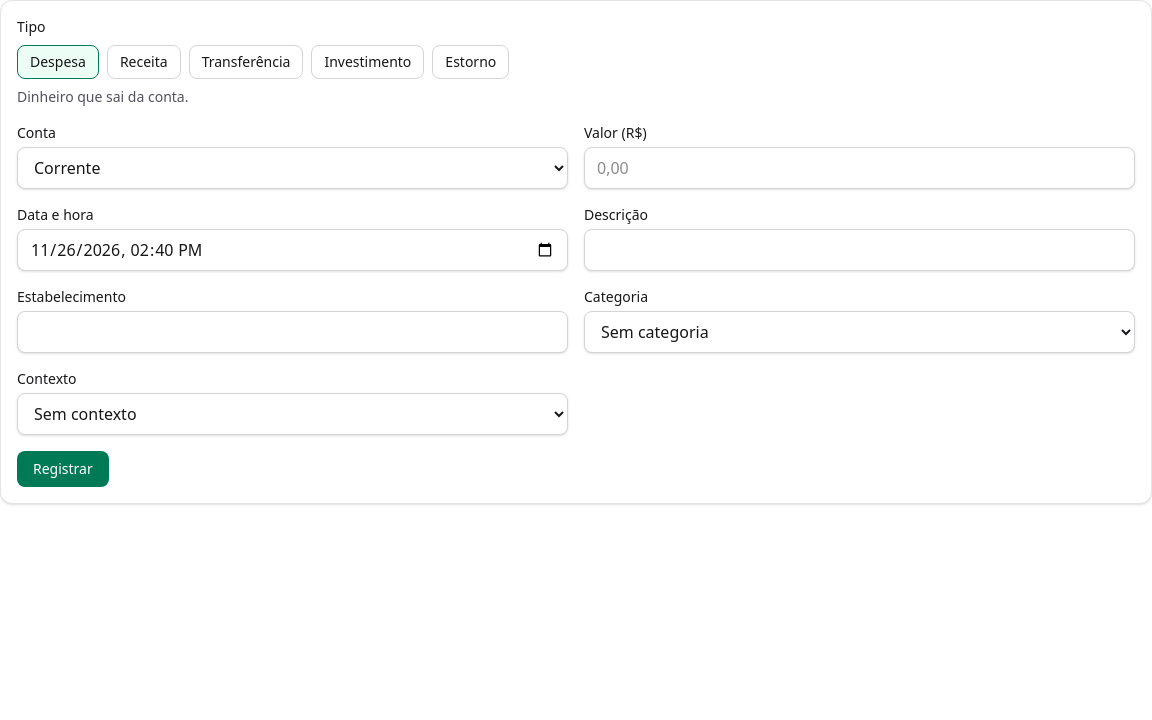
Test: TransactionForm › valor zero e negativo são recusados
Type "0" into the field labelled "Valor (R$)" at (860, 168), box [584,147,1135,189]
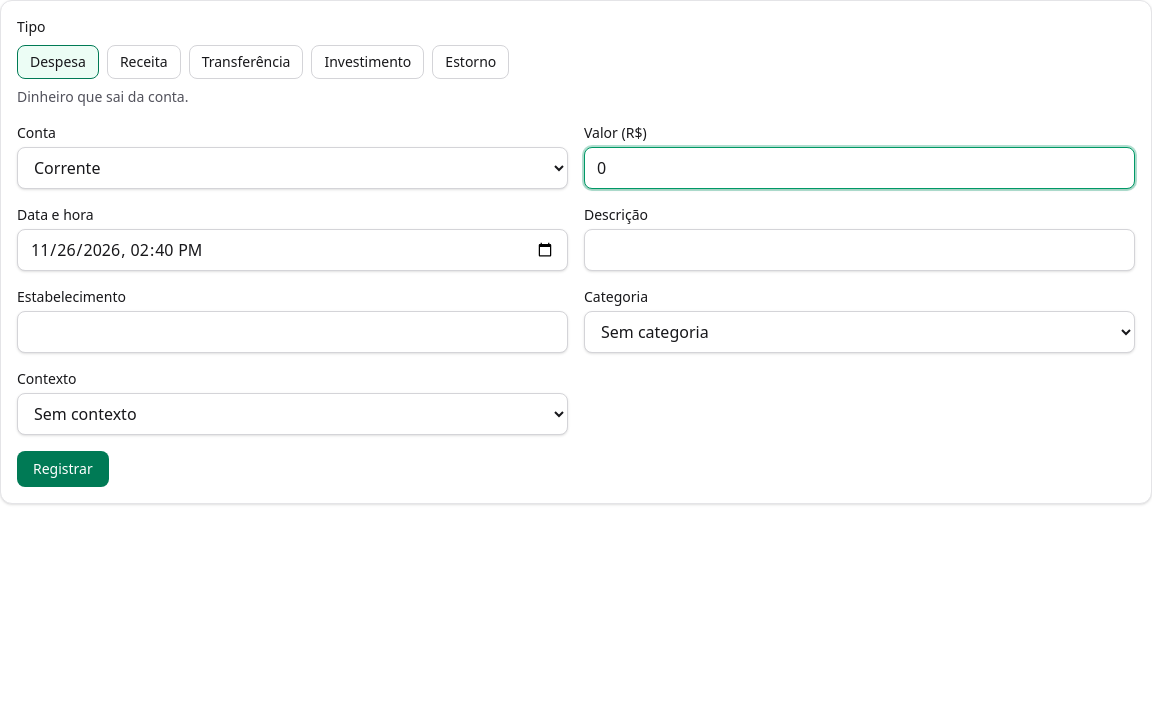
Click the button "Registrar" at (63, 469), box [17,451,109,487]
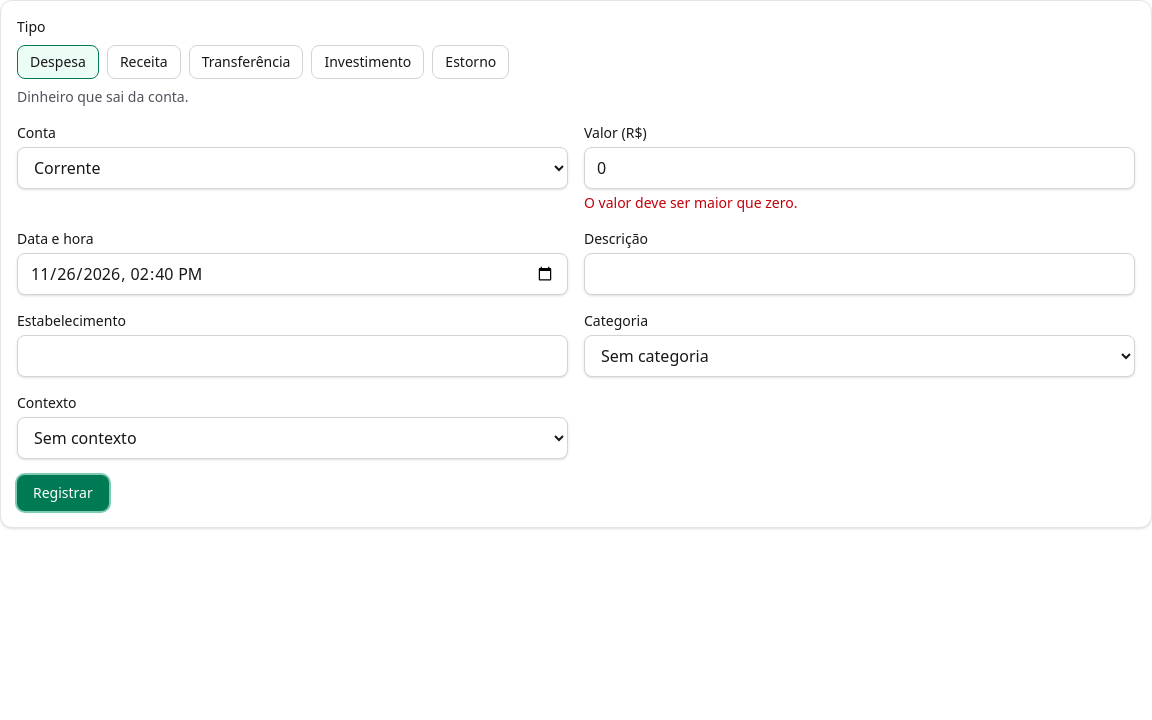
expect the text "O valor deve ser maior que zero." is shown: met, box [584,193,797,212]
Replace the text in the field labelled "Valor (R$)" with "-5" at (860, 168), box [584,147,1135,189]
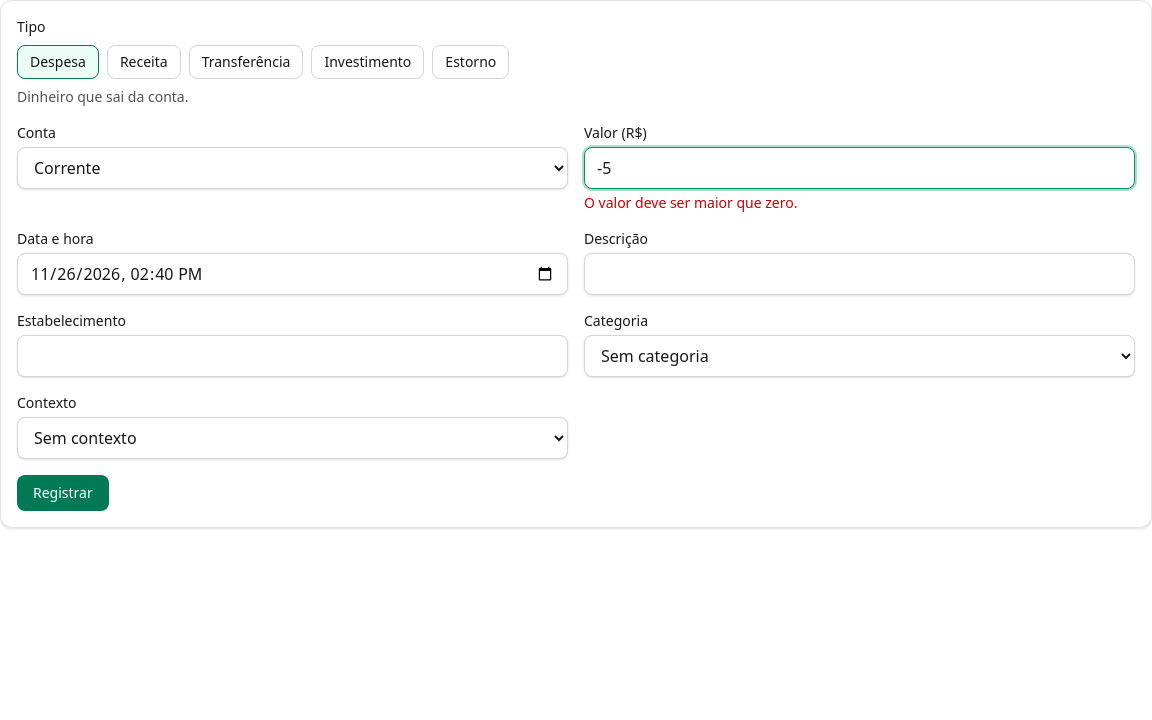
Click the button "Registrar" at (63, 493), box [17,475,109,511]
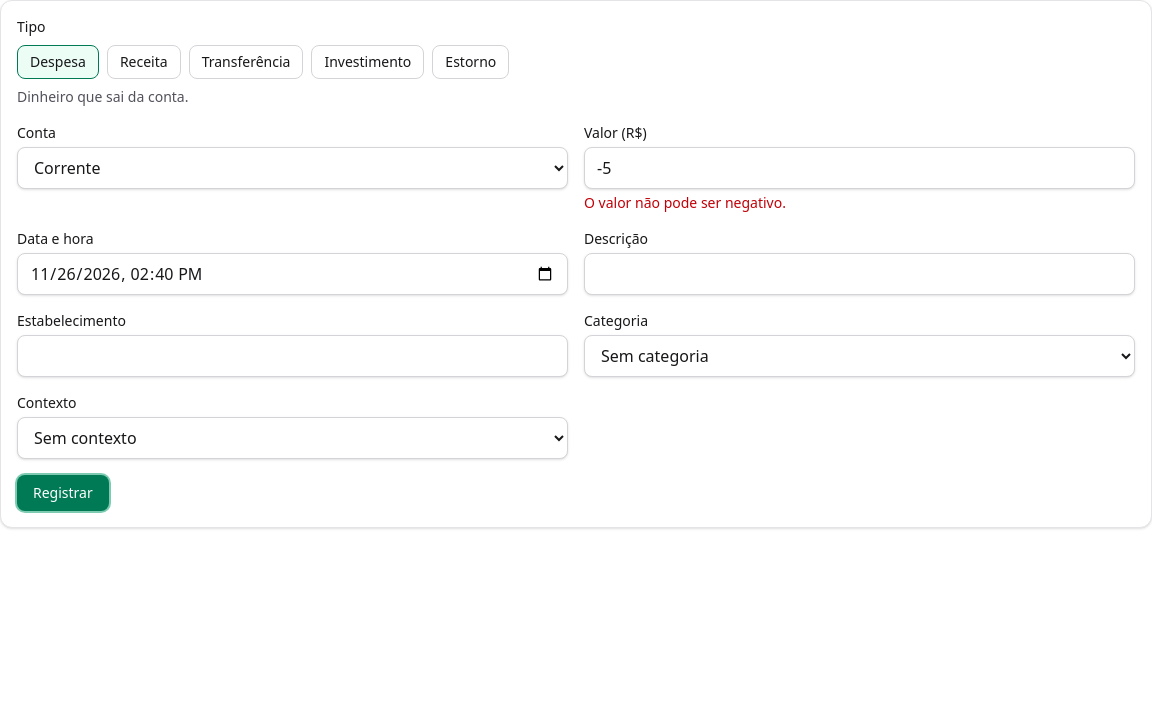
expect the text "O valor não pode ser negativo." is shown: met, box [584,193,786,212]
